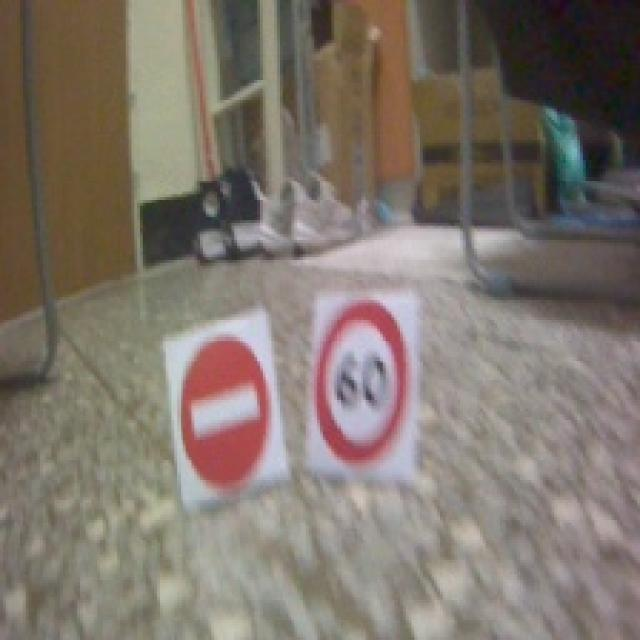DoNotEnterSign: (178, 335, 273, 492)
